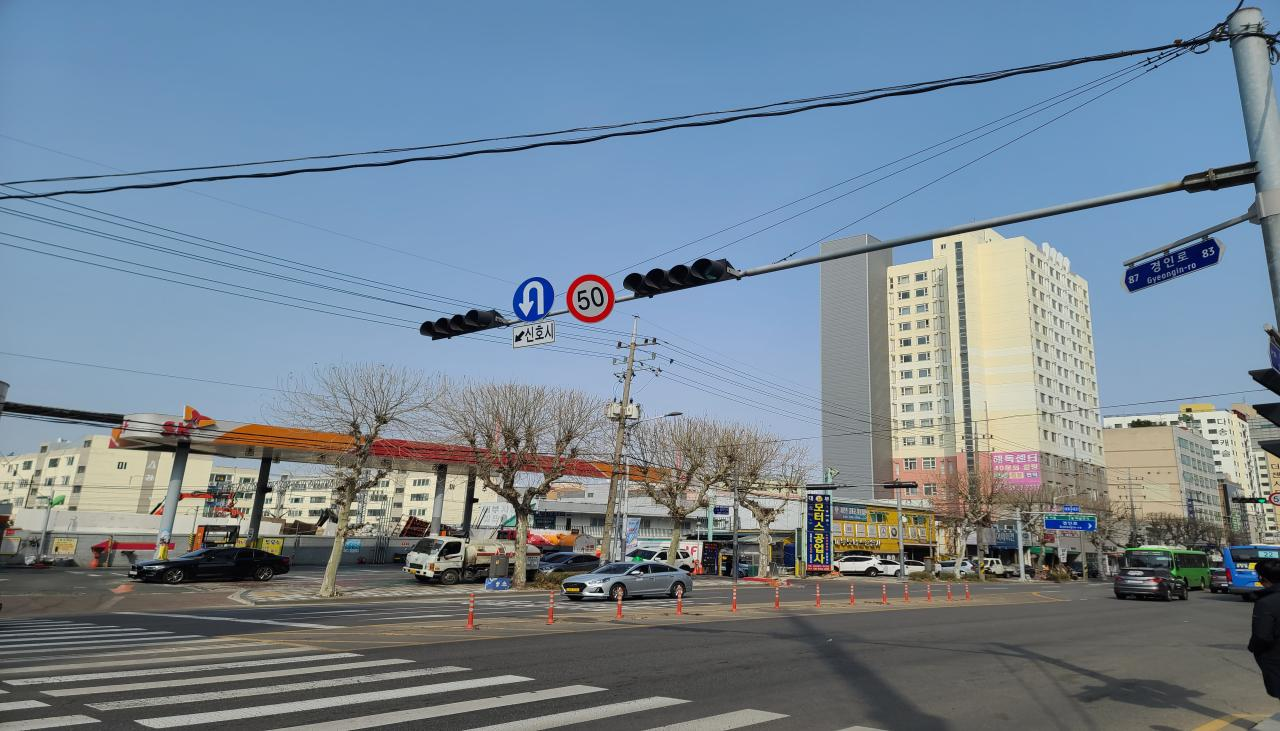Green Light: (696, 259, 724, 282), (467, 307, 492, 328)
